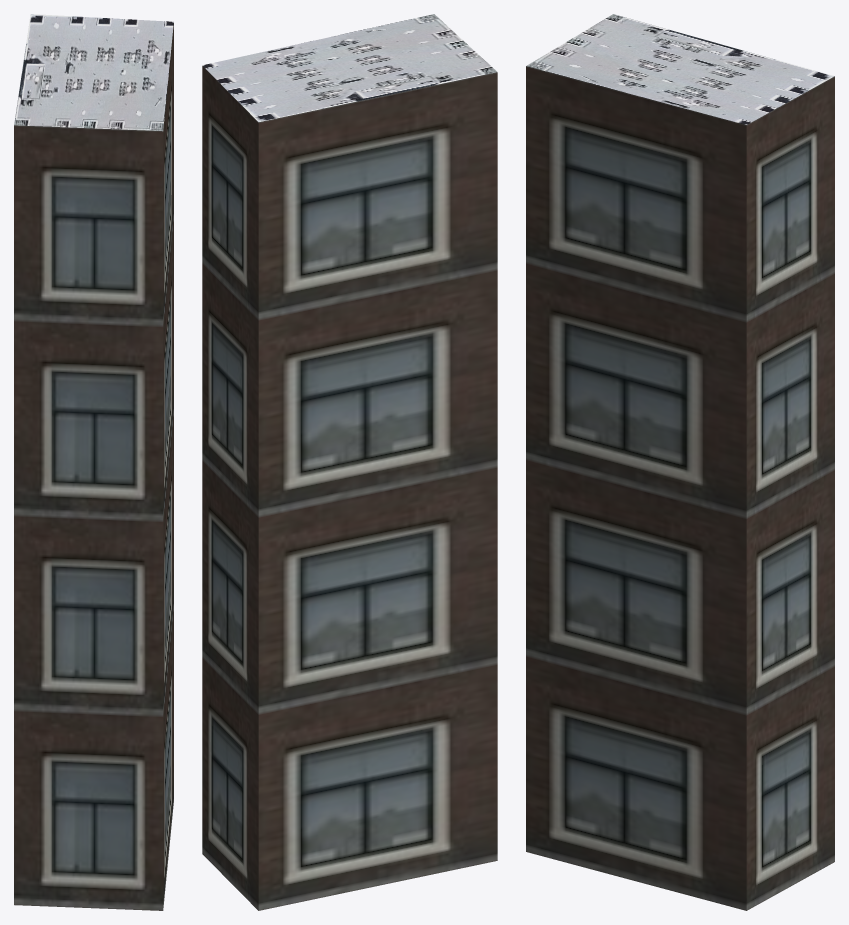
Rendered from ResTex__4726.fbx.
3 views of the same model, side by side, from view 1: azimuth 30°, elevation 25°; view 2: azimuth 150°, elevation 25°; view 3: azimuth 270°, elevation 25° (orthographic).
Parts seen in each view (by area): view 1: CityEngineMaterial_16_m, CityEngineMaterial_15_m; view 2: CityEngineMaterial_16_m, CityEngineMaterial_15_m; view 3: CityEngineMaterial_16_m, CityEngineMaterial_15_m.
Boxes of the visible parts, x1,y1,x2,y2 form: CityEngineMaterial_16_m: (14,23,173,910); CityEngineMaterial_15_m: (14,14,173,131); CityEngineMaterial_16_m: (202,66,497,910); CityEngineMaterial_15_m: (202,14,497,122); CityEngineMaterial_16_m: (526,66,834,910); CityEngineMaterial_15_m: (526,14,834,124).
Size of the model in its own units: 3.64 by 12 by 4.27.
2 materials, 2 textured.
